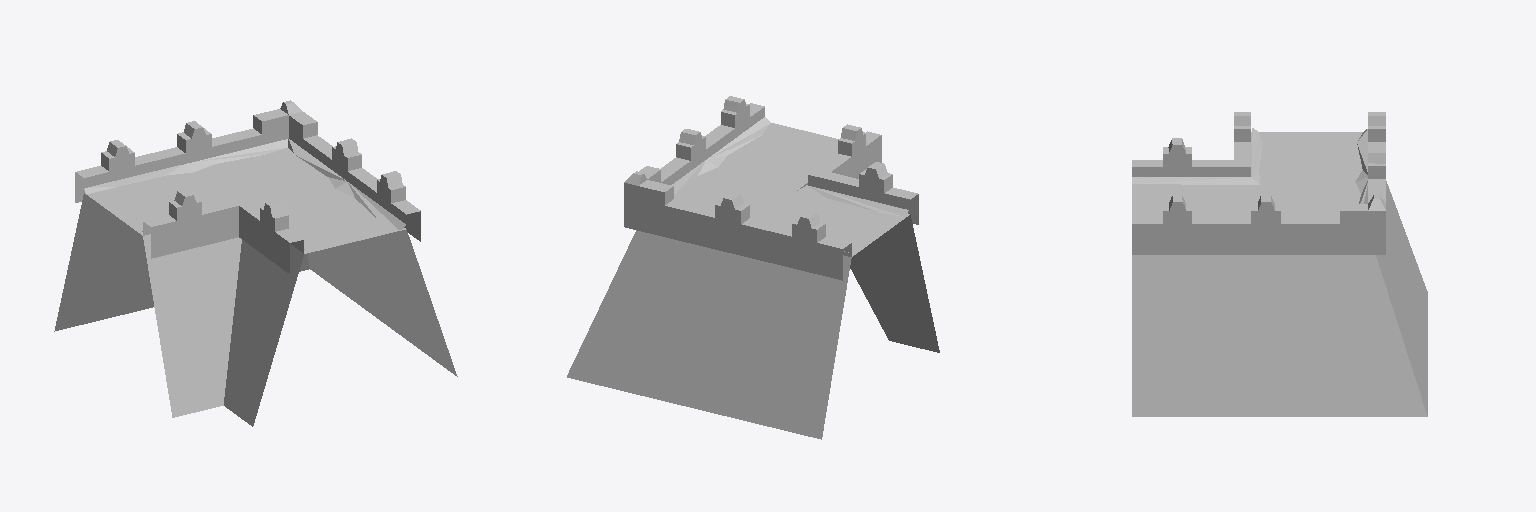
The model's file is templeTurnD_prefab.obj.
The picture shows the model from 3 angles: view 1: azimuth 30°, elevation 25°; view 2: azimuth 150°, elevation 25°; view 3: azimuth 270°, elevation 25°; orthographic projection.
Parts seen in each view (by area): view 1: Object76-Pivot; view 2: Object76-Pivot; view 3: Object76-Pivot.
Part boxes in pixels (x1,y1,x2,y2): Object76-Pivot: (54,100,457,426); Object76-Pivot: (567,96,939,439); Object76-Pivot: (1132,112,1427,416).
Bounding box in the file's own units: 50.01 × 36.8 × 50.02.